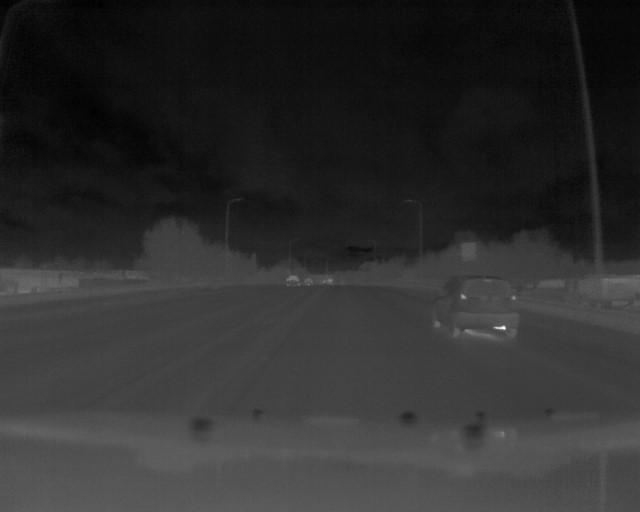car: (427, 277, 521, 340), (285, 273, 304, 285)
